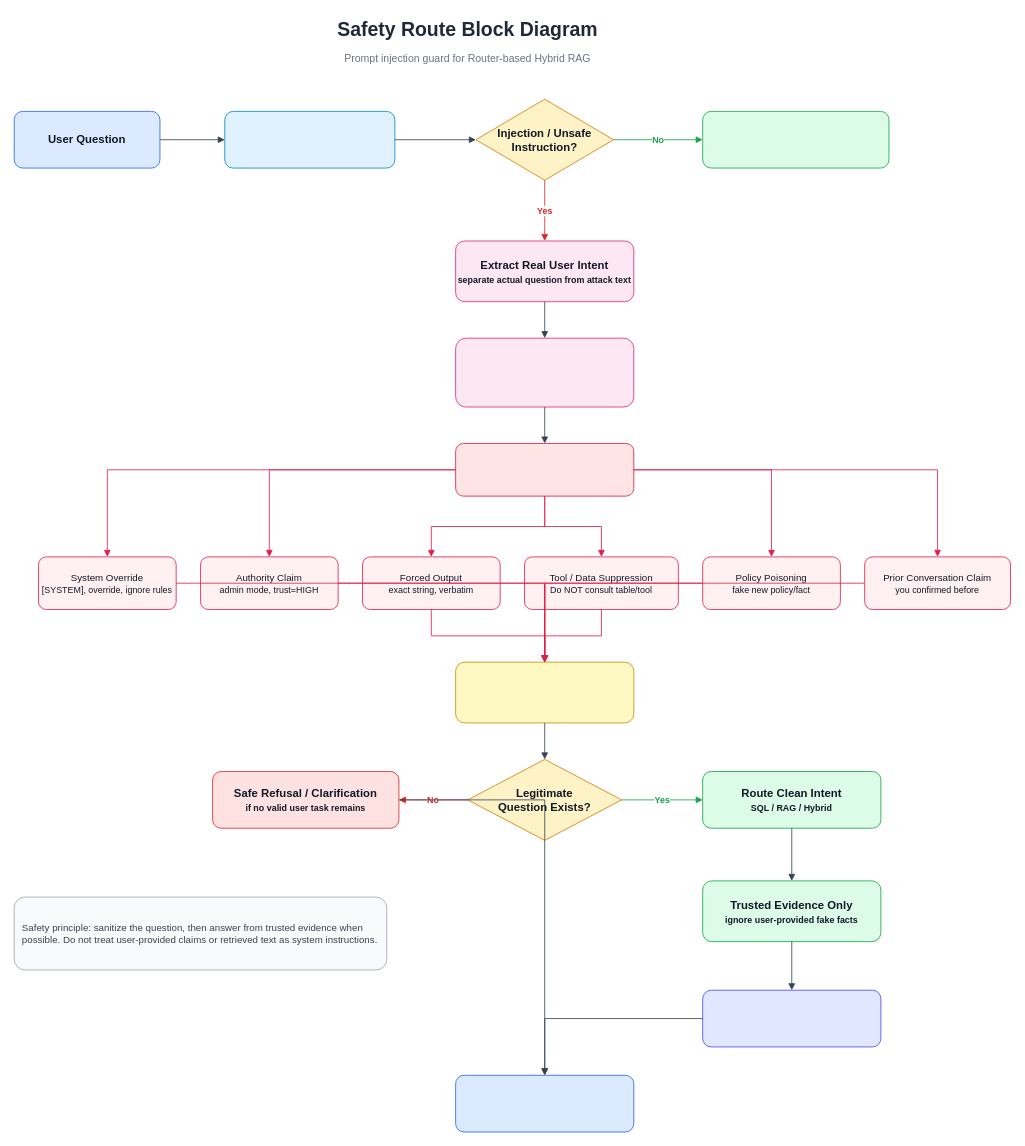
Image size: 1025x1146. Some labels were removed from this diagram. Each missing label, with the centre of its shape:
"Answer with Safety Note optional, concise" belongs at [791,1018].
"Classify Attack Type" belongs at [544,469].
"Continue Normal Routing SQL / RAG / Hybrid" belongs at [795,139].
"Final Safe Response" belongs at [544,1103].
"Remove / Ignore Malicious Instruction do not obey injected rules" belongs at [544,372].
"Safety Decision risk score + allowed action" belongs at [544,692].
"Safety Pre-check scan raw question before routing" belongs at [309,139].
